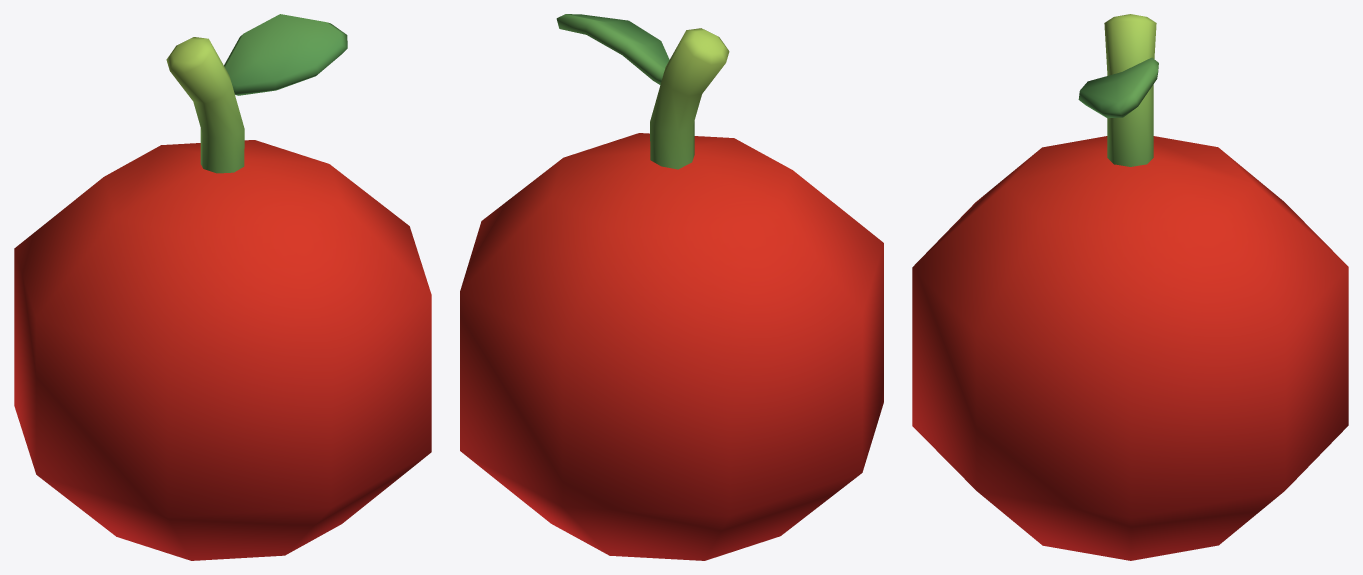
File: fruit_toon_material_0.001.glb
3 views of the same model, side by side, from view 1: azimuth 30°, elevation 25°; view 2: azimuth 150°, elevation 25°; view 3: azimuth 270°, elevation 25° (orthographic).
Visible parts, largest first — view 1: fruit_toon_material_0.001; view 2: fruit_toon_material_0.001; view 3: fruit_toon_material_0.001.
Part boxes in pixels (x1=…): fruit_toon_material_0.001: x1=14, y1=14, x2=431, y2=560; fruit_toon_material_0.001: x1=460, y1=14, x2=883, y2=560; fruit_toon_material_0.001: x1=912, y1=14, x2=1348, y2=560.
Bounding box in the file's own units: 0.5732 × 0.7438 × 0.5732.
Materials: 1 (1 with a texture image).
